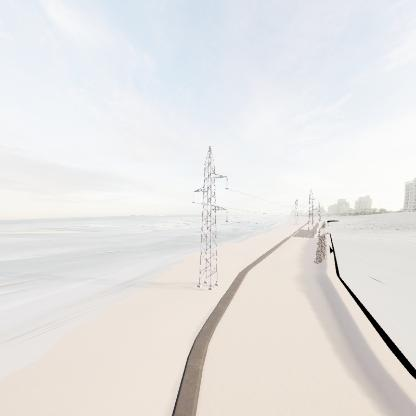tower: (190, 144, 230, 295)
